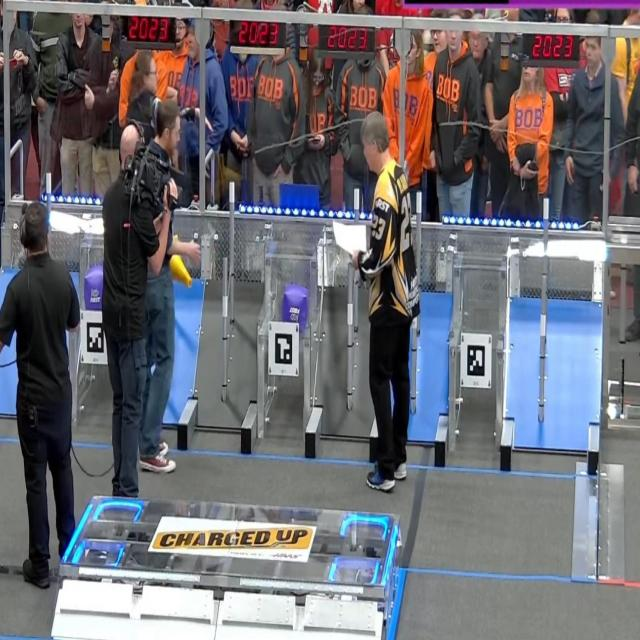frc_cone: (169, 236, 192, 290)
frc_cube: (283, 284, 307, 325), (84, 266, 104, 309)
